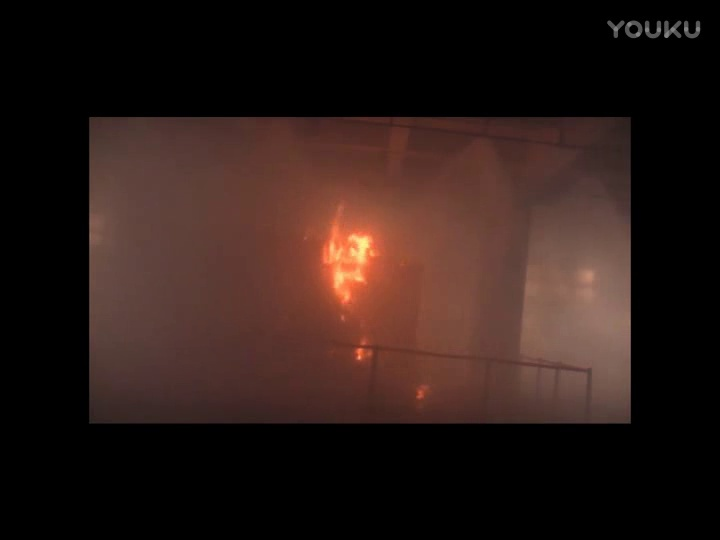fire: (326, 202, 371, 304)
